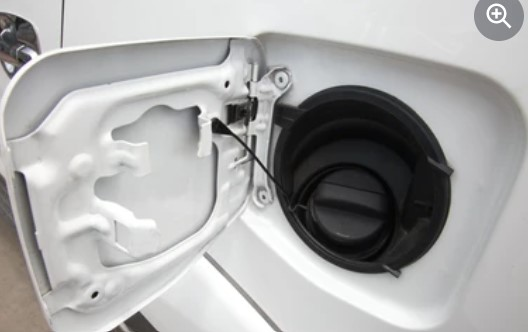open: (258, 38, 490, 293)
